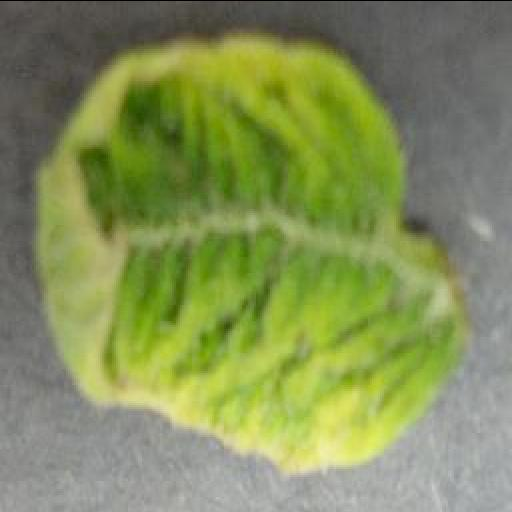disease_tomato: (32, 33, 468, 477)
